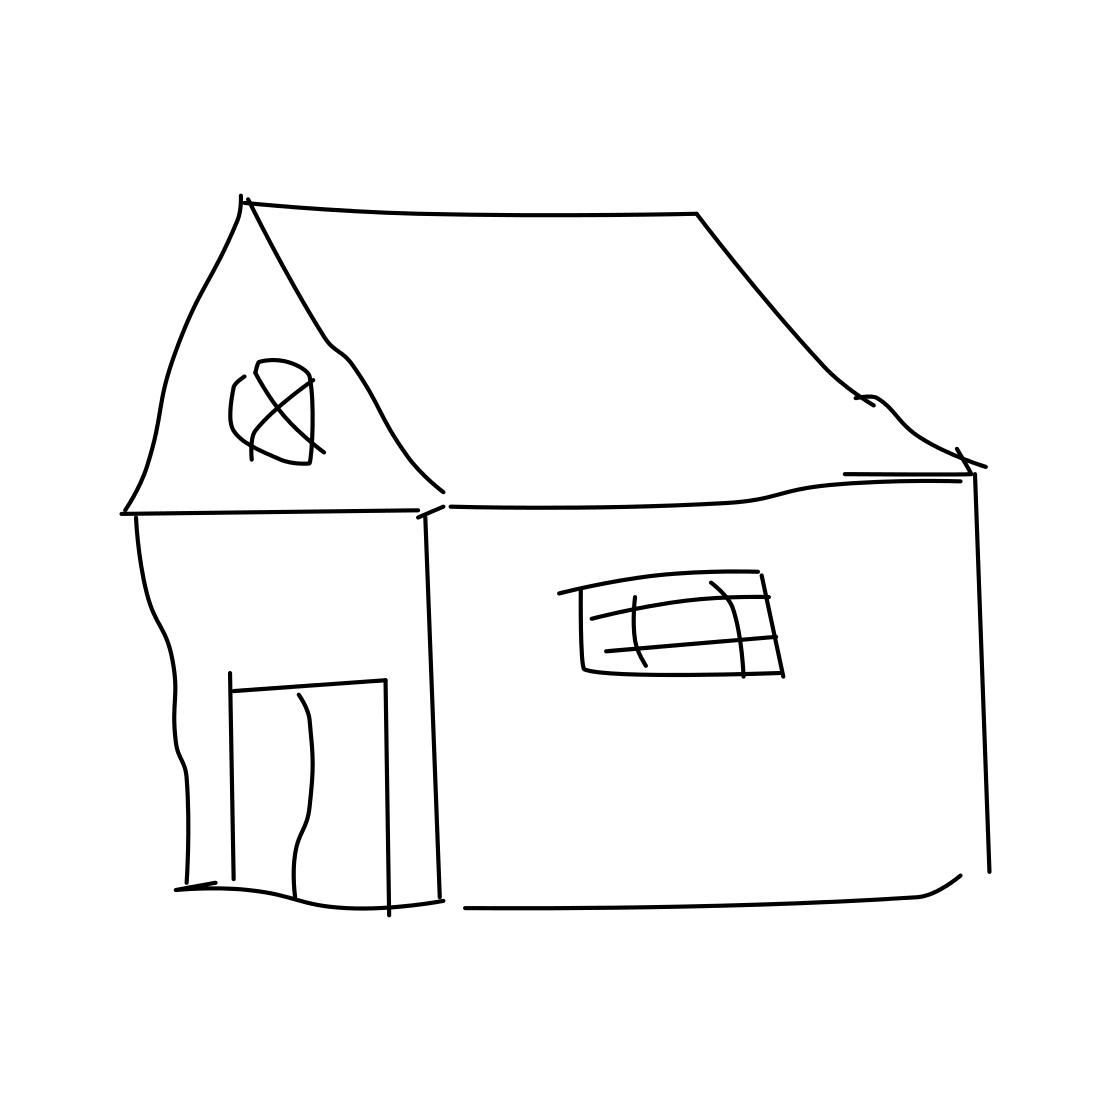House: (57, 167, 1028, 929)
